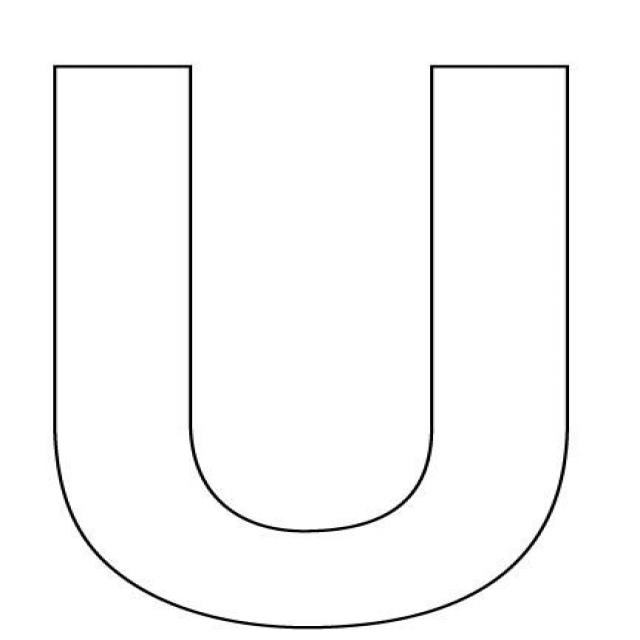U: (41, 17, 586, 640)
